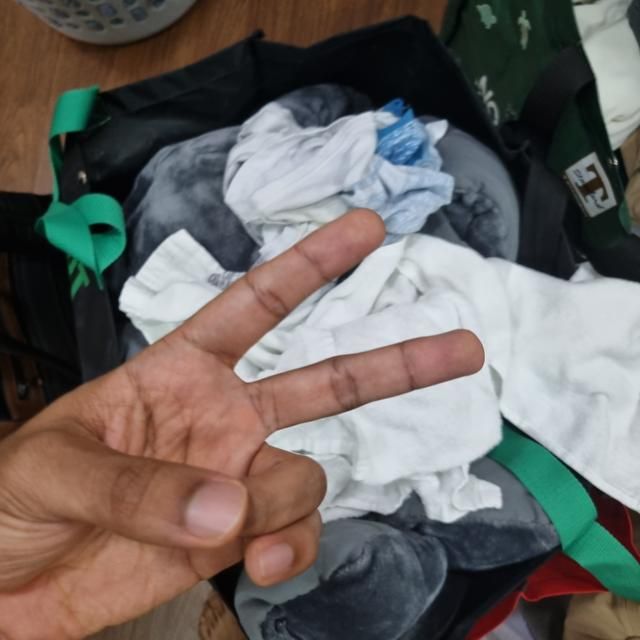Scissors: (0, 207, 484, 639)
